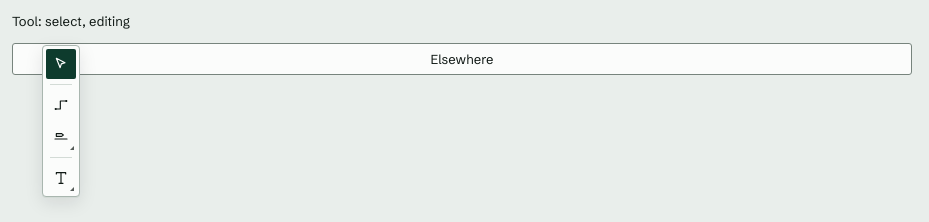
Test case: ToolRail › chooses a tool with a click and marks it pressed
The image size is (929, 222).
Click the button named "Wire" at x=61, y=105, box [46,90,76,120]
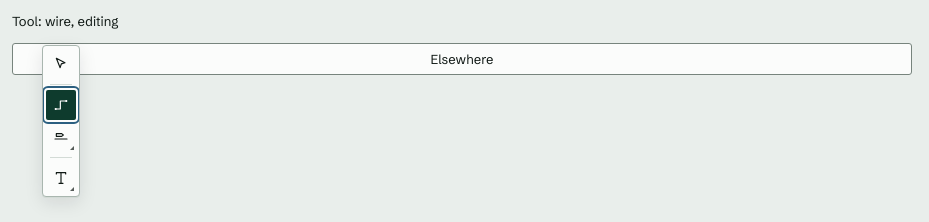
Check: the button named "Wire" is pressed, box [46,90,76,120]
Check: the button named "Select" is not pressed, box [46,49,76,79]
